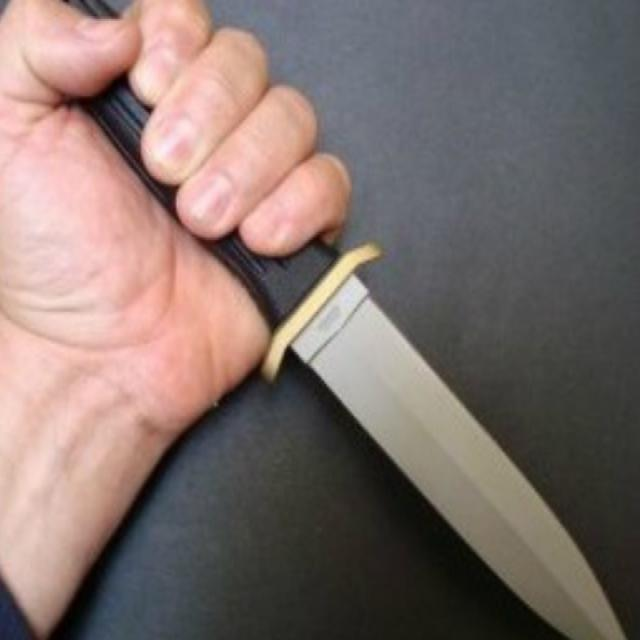knife: (262, 238, 640, 640)
